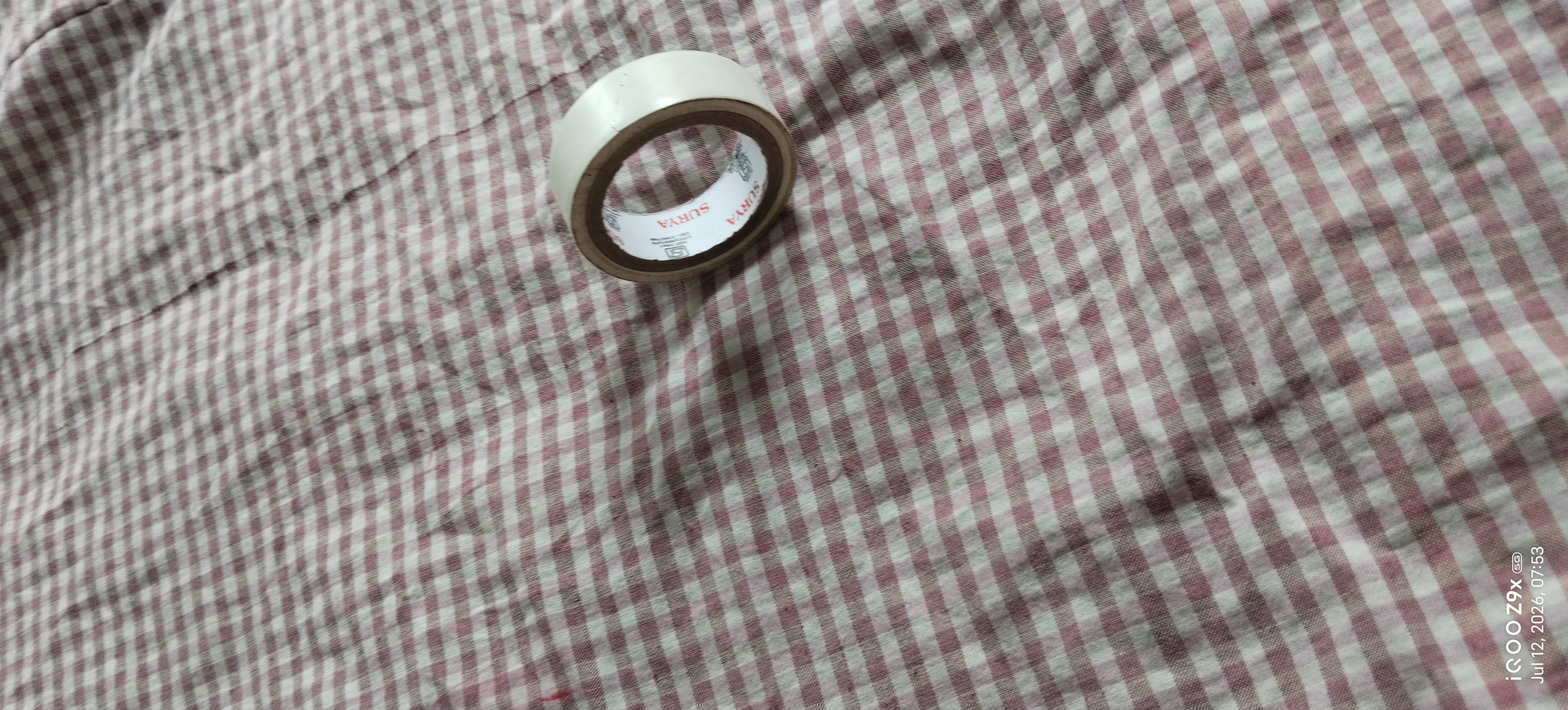tape_roll: (519, 43, 836, 310)
